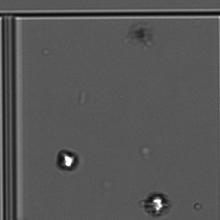Dead Cell: (123, 22, 159, 49)
Living Cell: (54, 147, 82, 172), (142, 191, 170, 216)
